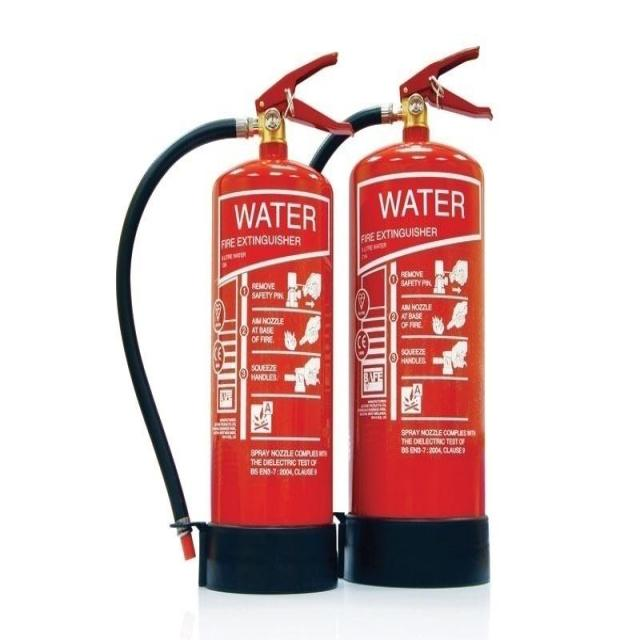fire_extinguisher: (110, 47, 357, 596), (292, 42, 496, 592)
